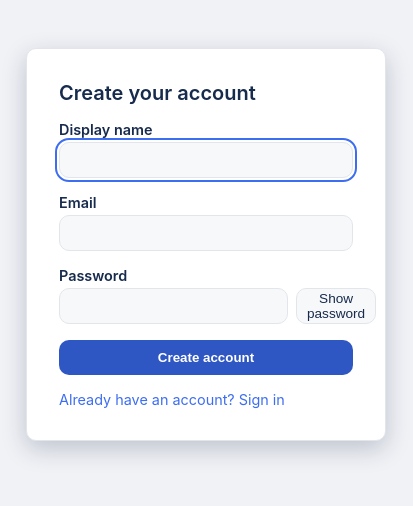
signup route › shows inline validation and moves focus to the first invalid field on submit
What coordinates should you click on to do the following:
click the button "Create account"
I would click on:
 (206, 357)
Its box is [59, 340, 353, 374].
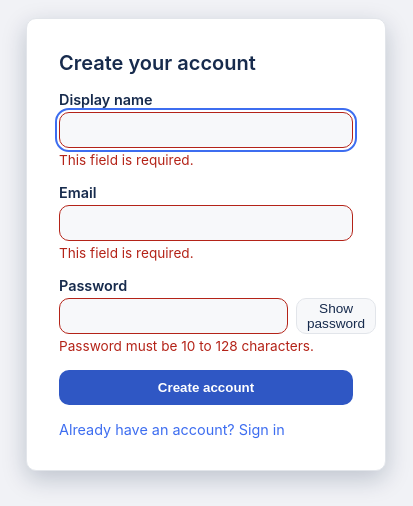
Now the text "This field is required." below "Display name" is shown, box [59, 152, 194, 168]
